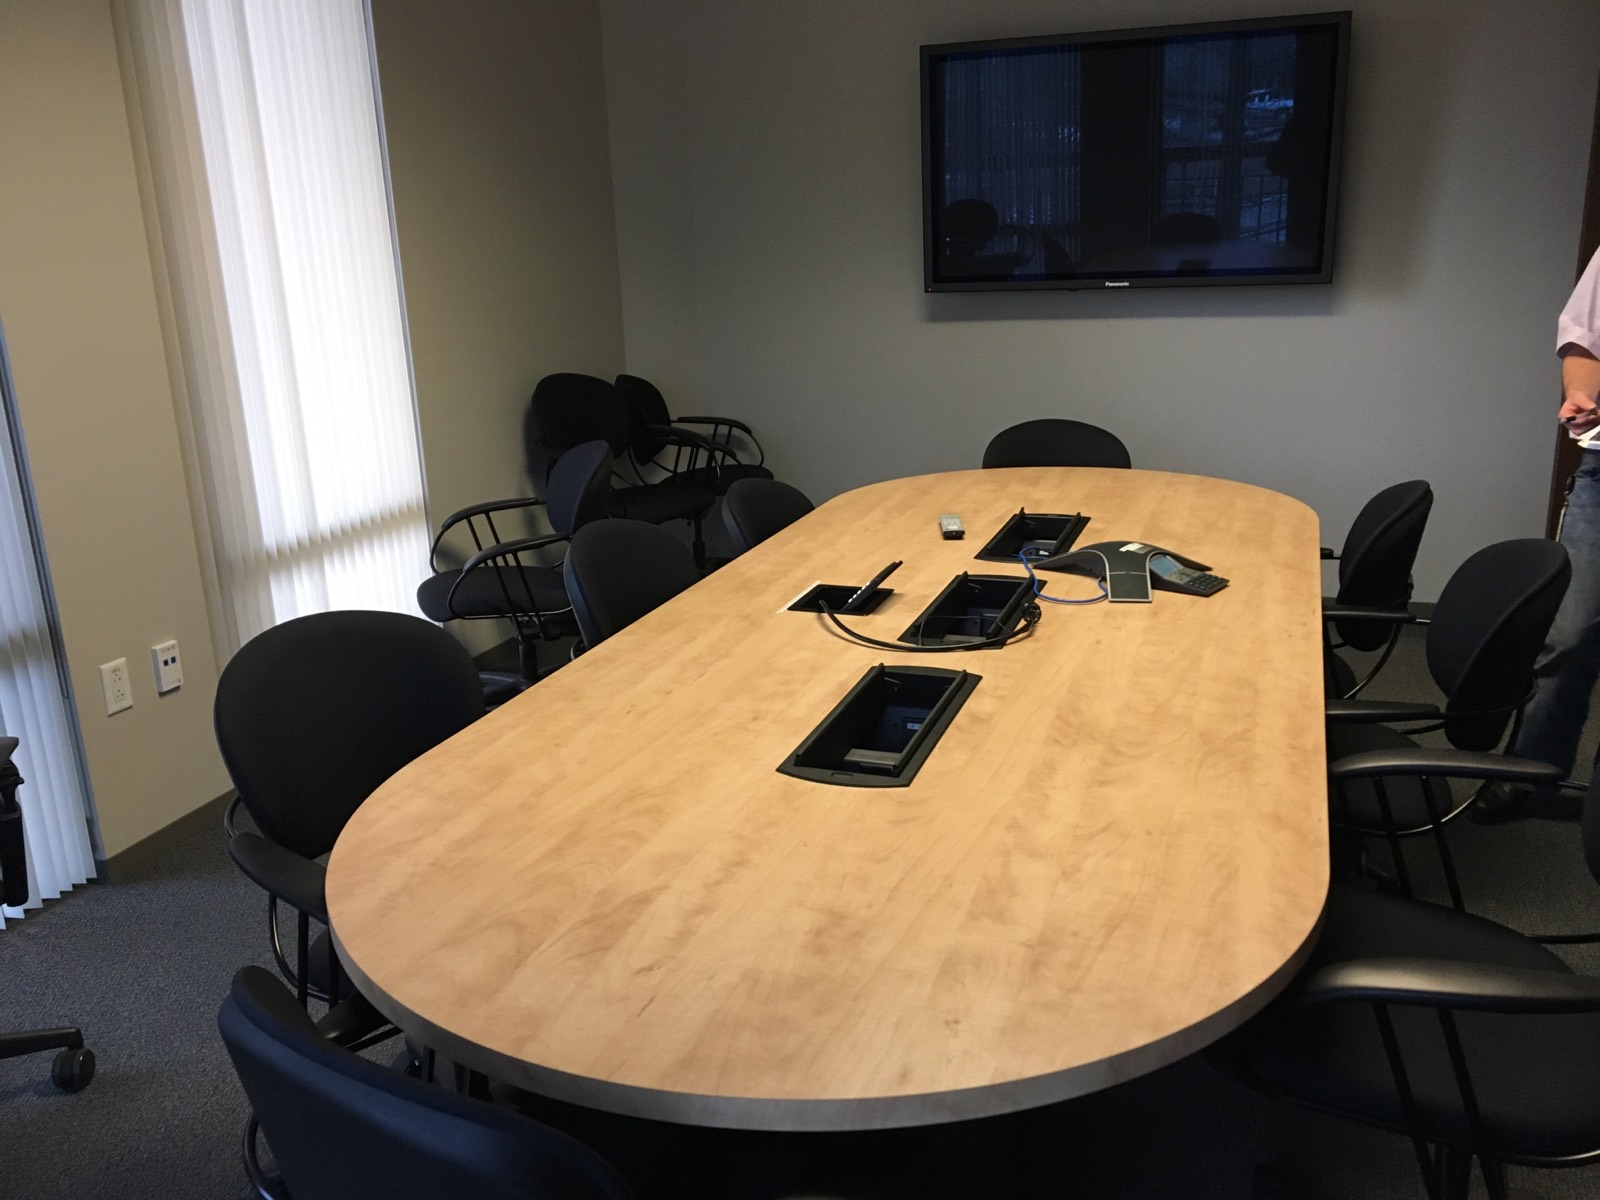conference_table: (326, 464, 1331, 1133)
